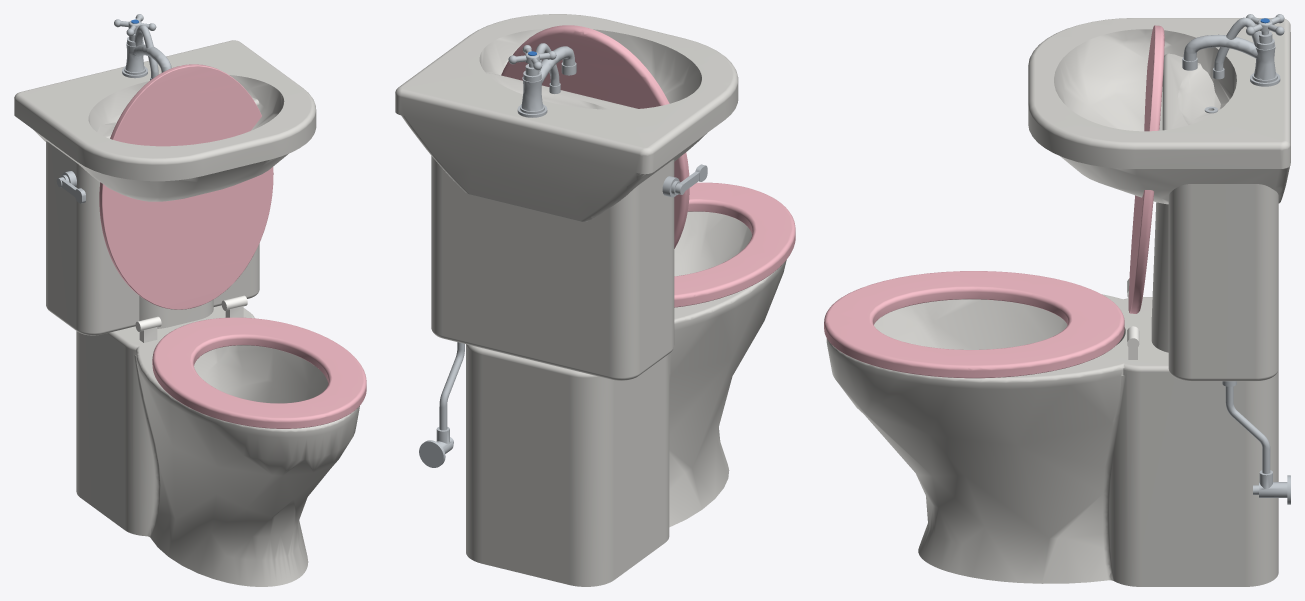
Rendered from sakura-restroom-fixtures.glb.
3 views of the same model, side by side, from view 1: azimuth 30°, elevation 25°; view 2: azimuth 150°, elevation 25°; view 3: azimuth 270°, elevation 25° (orthographic). The views are drawn at different scales.
Parts seen in each view (by area): view 1: Bowl, ToiletLid, Basin, Seat, Tank, Pedestal, BasinChrome, ToiletChrome; view 2: Bowl, Tank, Basin, Seat, ToiletLid, ToiletChrome, BasinChrome, TankLid, TapHandle; view 3: Bowl, Basin, Tank, Seat, ToiletLid, TankLid, ToiletChrome, BasinChrome, Pedestal.
Part boxes in pixels (x1,y1,x2,y2): Bowl: (76,305,359,586); ToiletLid: (99,64,273,342); Basin: (14,40,316,201); Seat: (152,317,366,428); Tank: (46,141,259,335); Pedestal: (139,296,213,328); BasinChrome: (122,31,171,78); ToiletChrome: (60,25,158,186); Bowl: (466,211,786,586); Tank: (431,156,674,380); Basin: (395,14,738,221); Seat: (674,182,795,307); ToiletLid: (501,25,689,248); ToiletChrome: (419,43,680,467); BasinChrome: (517,46,576,117); TankLid: (487,73,637,109); TapHandle: (508,45,556,70); Bowl: (826,294,1278,586); Basin: (1028,18,1290,204); Tank: (1168,184,1278,381); Seat: (824,271,1124,378); ToiletLid: (1127,25,1164,359); TankLid: (1162,53,1220,130); ToiletChrome: (1204,17,1290,504); BasinChrome: (1182,31,1280,86); Pedestal: (1151,202,1168,352).
Bounding box in the file's own units: 0.5 × 0.9626 × 0.764.
